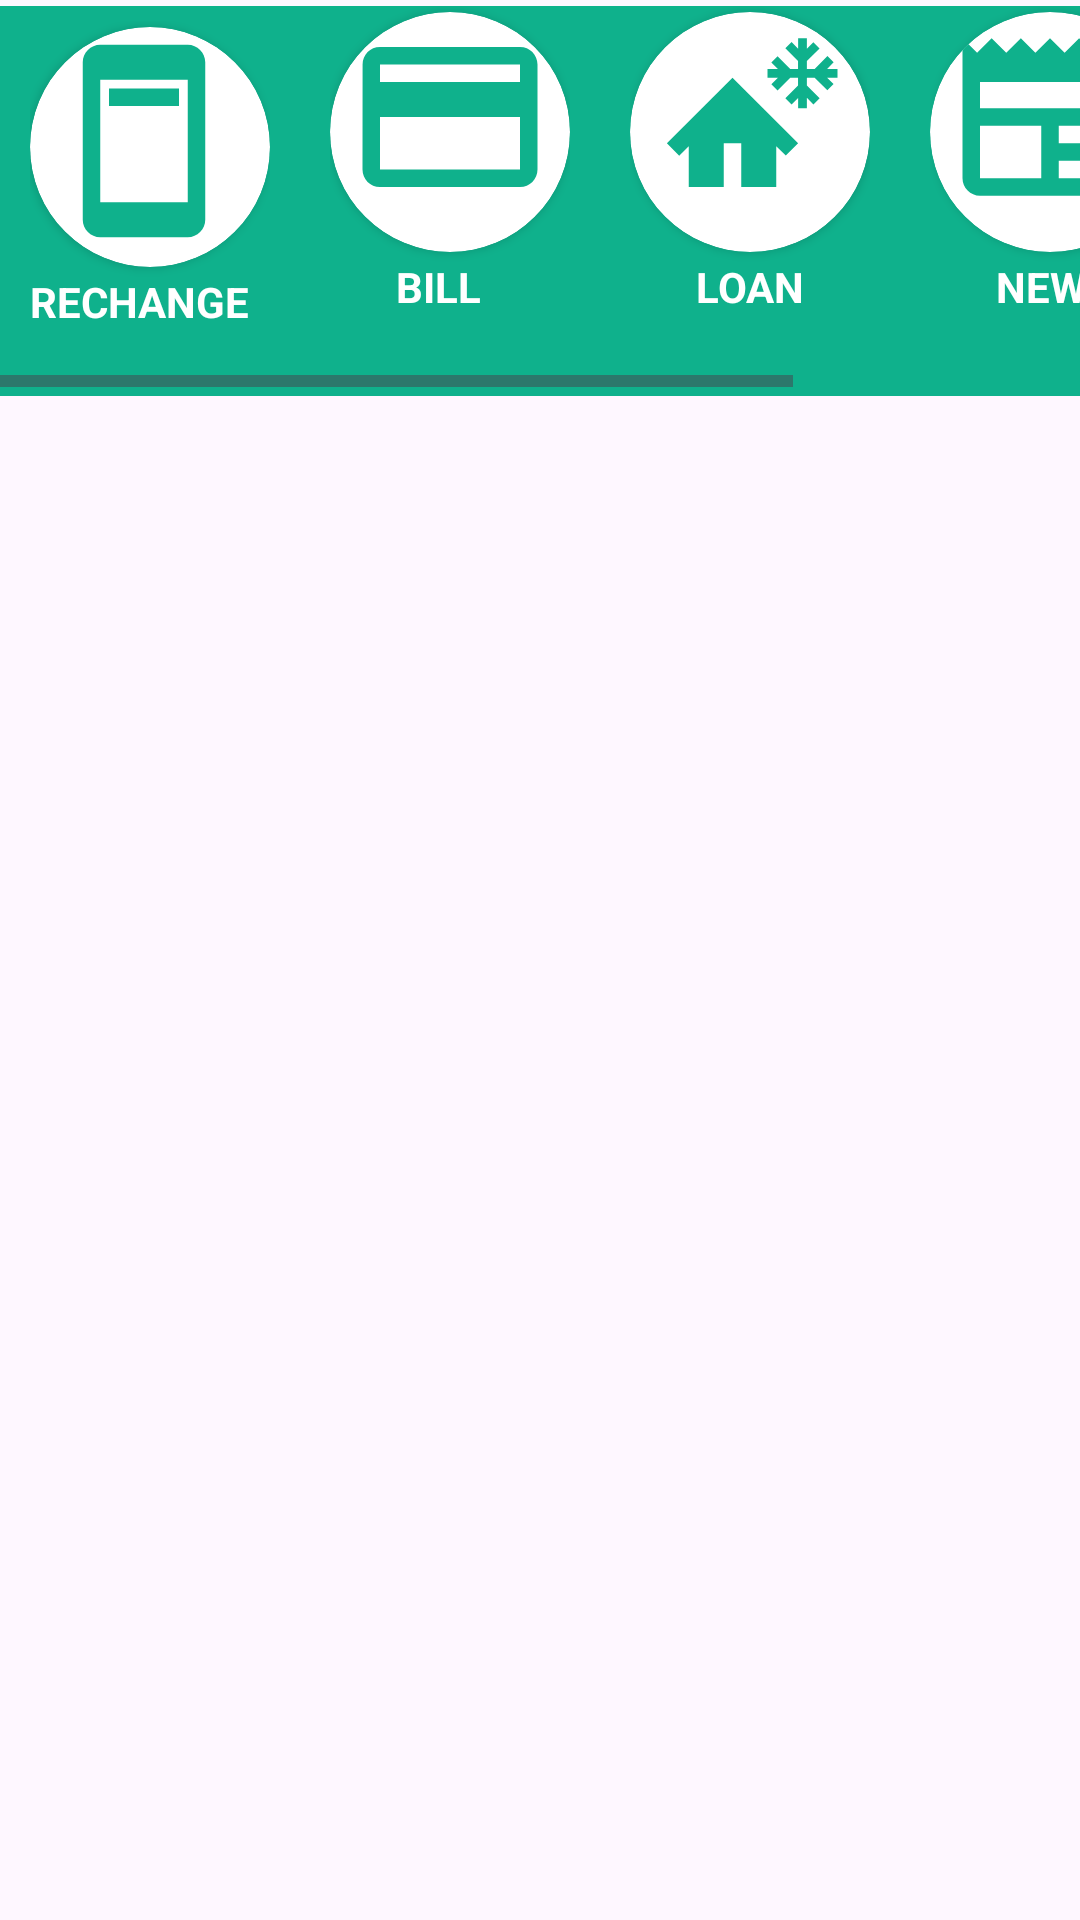

Icon click points for this 1080px×1920px phone screenshot, format (x,y):
ad units: (144,141)
chalet: (750,117)
credit card: (450,117)
